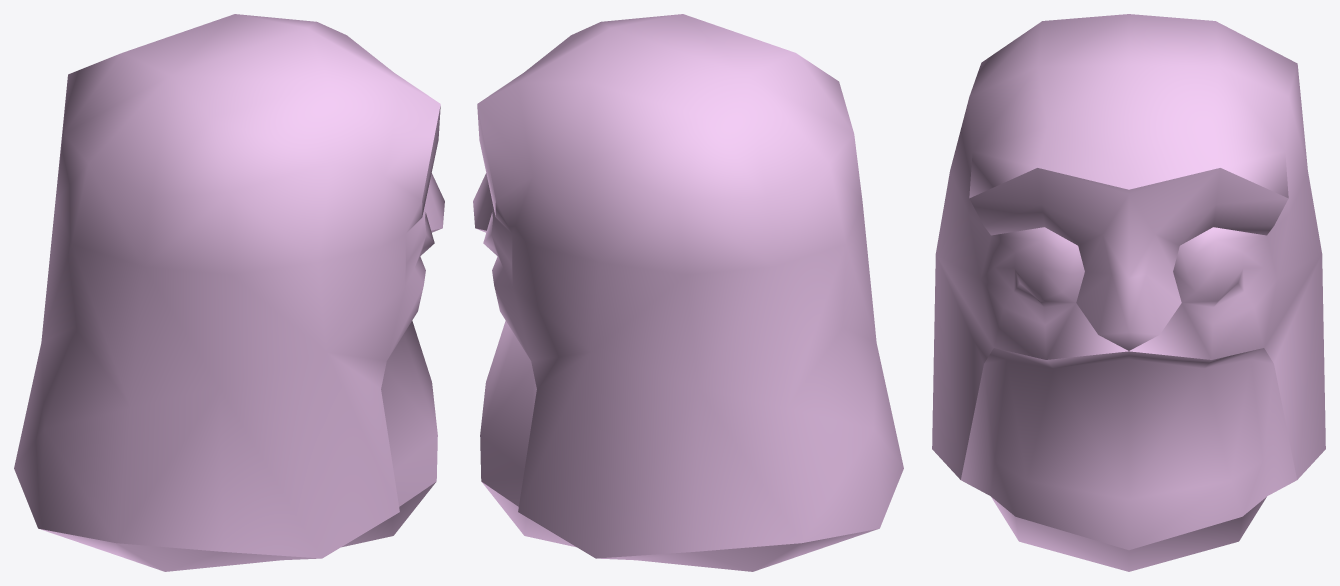
3 renders of one model, left to right at view 1: azimuth 30°, elevation 25°; view 2: azimuth 150°, elevation 25°; view 3: azimuth 270°, elevation 25°, orthographic. The views are drawn at different scales.
Visible parts, largest first — view 1: Object24; view 2: Object24; view 3: Object24.
Boxes of the visible parts, x1=… form: Object24: x1=14, y1=14, x2=444, y2=571; Object24: x1=473, y1=14, x2=903, y2=571; Object24: x1=932, y1=14, x2=1325, y2=571.
Size of the model in its own units: 451 by 541 by 388.
